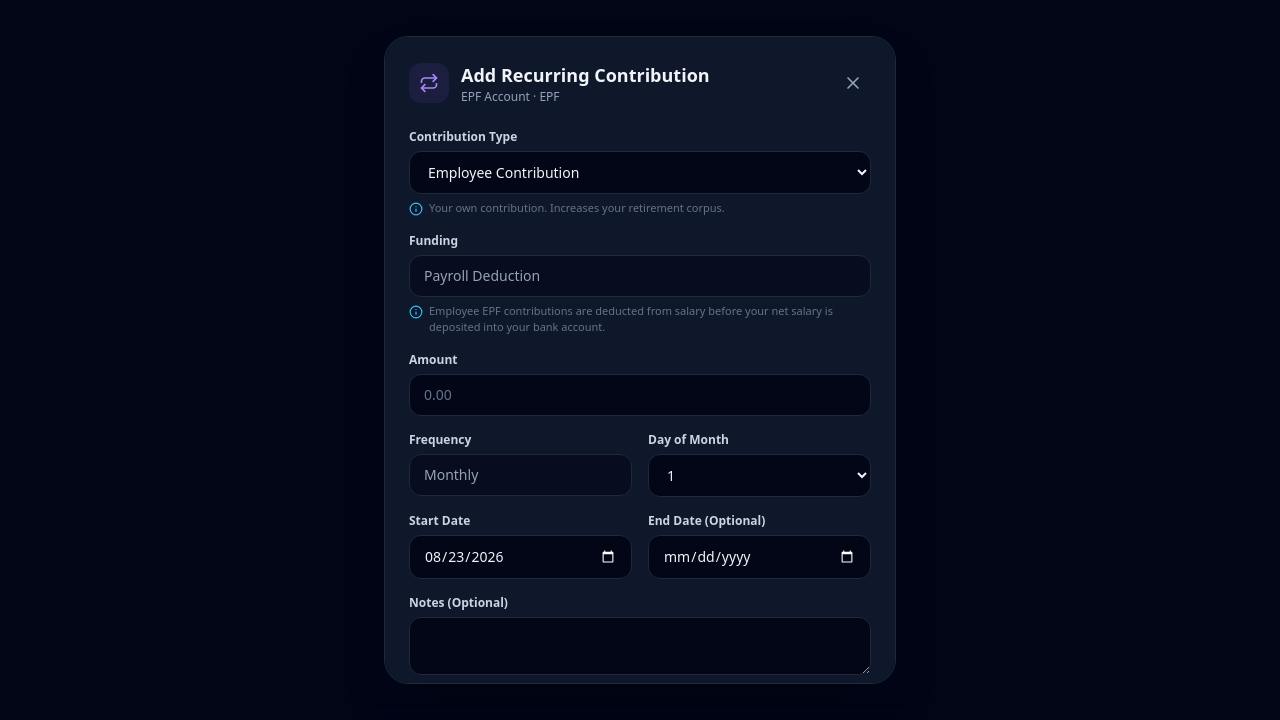
Test case: RecurringContributionFormModal — product policy › EPF: offers both Employee and Employer Contribution, and hides the source-account field for both
expect the text "deducted from salary before your net salary is deposited" is shown: met, box [429,302,833,334]
Select "Employer Contribution" in the dropdown labelled "Contribution Type" at [640, 172], box [409,151,871,194]
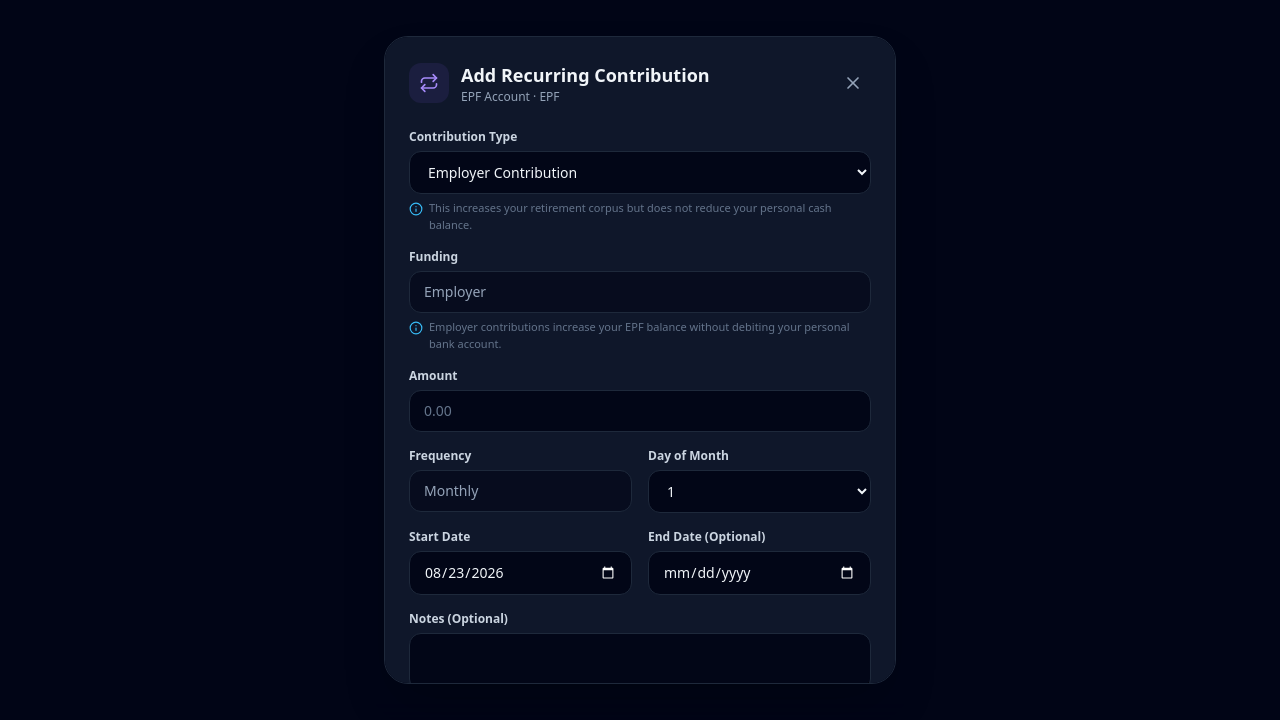
expect the text "increase your EPF balance without debiting your personal bank account" is shown: met, box [429,319,850,350]
